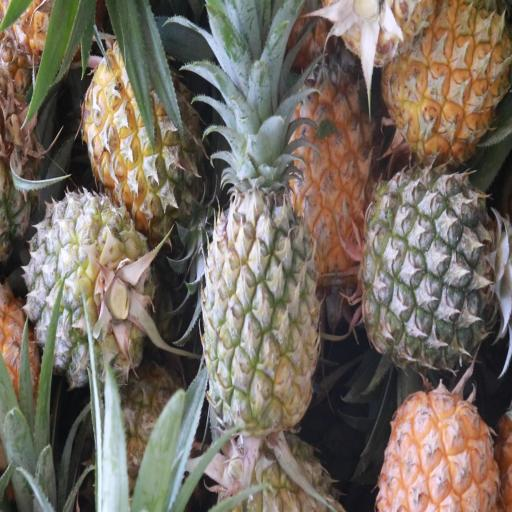------------------------------: (81, 29, 199, 227), (26, 192, 148, 383)
Pineapple - v8 v1: (296, 56, 382, 272), (387, 4, 504, 156), (378, 382, 499, 510)
